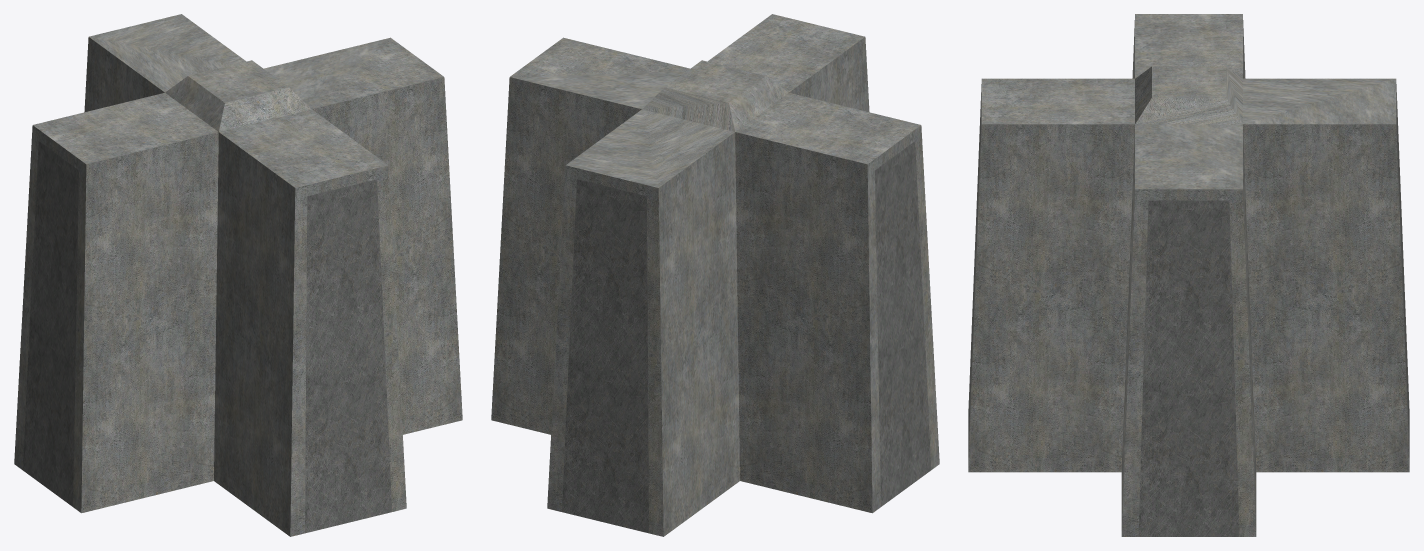
File: mun_all_military_column_huge_impl_s01_l1.fbx
The picture shows the model from 3 angles, left to right: view 1: azimuth 30°, elevation 25°; view 2: azimuth 150°, elevation 25°; view 3: azimuth 270°, elevation 25°; orthographic projection.
Parts seen in each view (by area): view 1: mesh_node; view 2: mesh_node; view 3: mesh_node.
Part boxes in pixels (left/top/right/bottom): mesh_node: left=14, top=14, right=462, bottom=536; mesh_node: left=491, top=14, right=939, bottom=536; mesh_node: left=968, top=14, right=1409, bottom=536.
Bounding box in the file's own units: 8.19 × 7.4 × 8.19.
